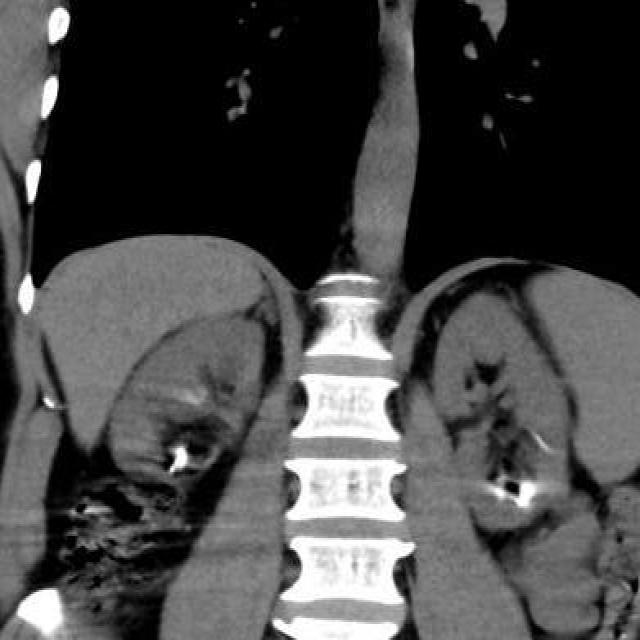Tas_Var: (514, 481, 540, 511), (489, 486, 506, 500), (173, 453, 189, 467), (172, 444, 185, 454), (165, 466, 178, 474)
